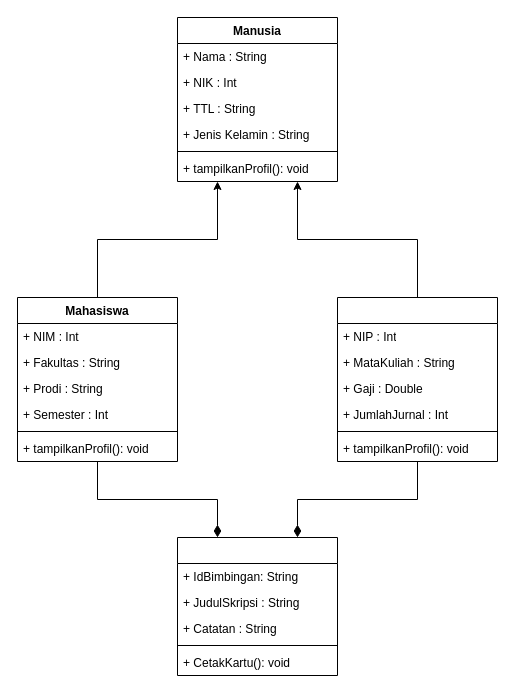
This 515x696 diagram has some shape labels left out. The box of each missing label's shape, as (x1, y1, x2, y2) in pixels:
BimbinganSkripsi: (176, 536, 338, 676)
Dosen: (336, 296, 498, 462)
